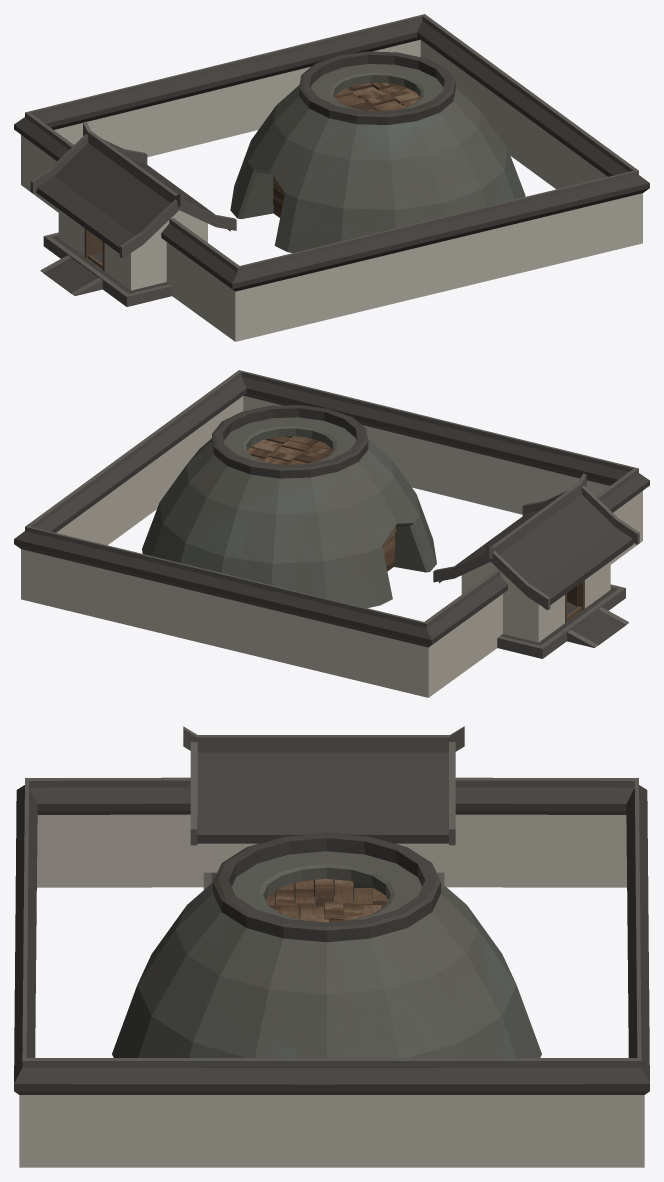
Rendered from ZhuanChang01.fbx.
3 renders of one model, top to bottom at view 1: azimuth 30°, elevation 25°; view 2: azimuth 150°, elevation 25°; view 3: azimuth 270°, elevation 25°, orthographic. The views are drawn at different scales.
Parts seen in each view (by area): view 1: ZhuanChang01; view 2: ZhuanChang01; view 3: ZhuanChang01.
Boxes of the visible parts, x1,y1,x2,y2 form: ZhuanChang01: [14, 14, 649, 341]; ZhuanChang01: [14, 370, 649, 697]; ZhuanChang01: [14, 726, 649, 1167].
Bounding box in the file's own units: 981 × 235 × 769.
